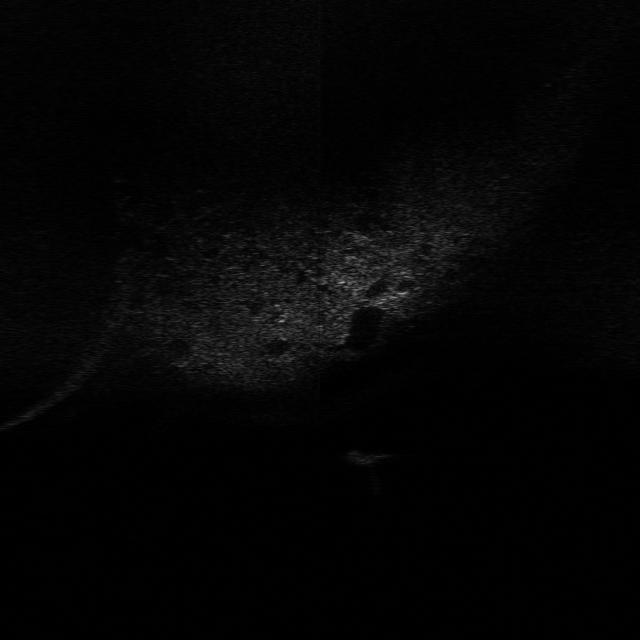cube: (338, 447, 393, 469)
